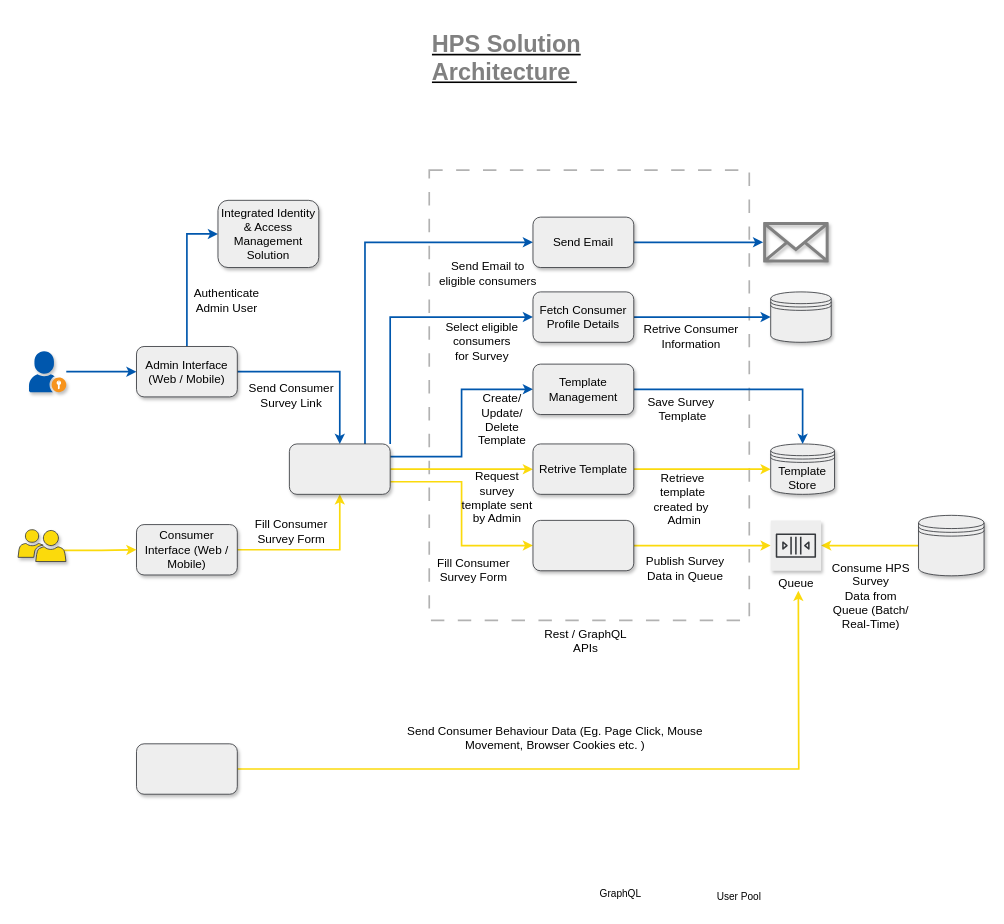
This 1004x924 diagram has some shape labels left out. The centre of each missing label's shape, as x and y in pixels:
"API Gateway" goes at pixel 340 470.
"Consumer Profile DB" goes at pixel 801 318.
"Other Channels" goes at pixel 187 770.
"Survey Data Store" goes at pixel 951 546.
"Update Survey Data" goes at pixel 584 546.
